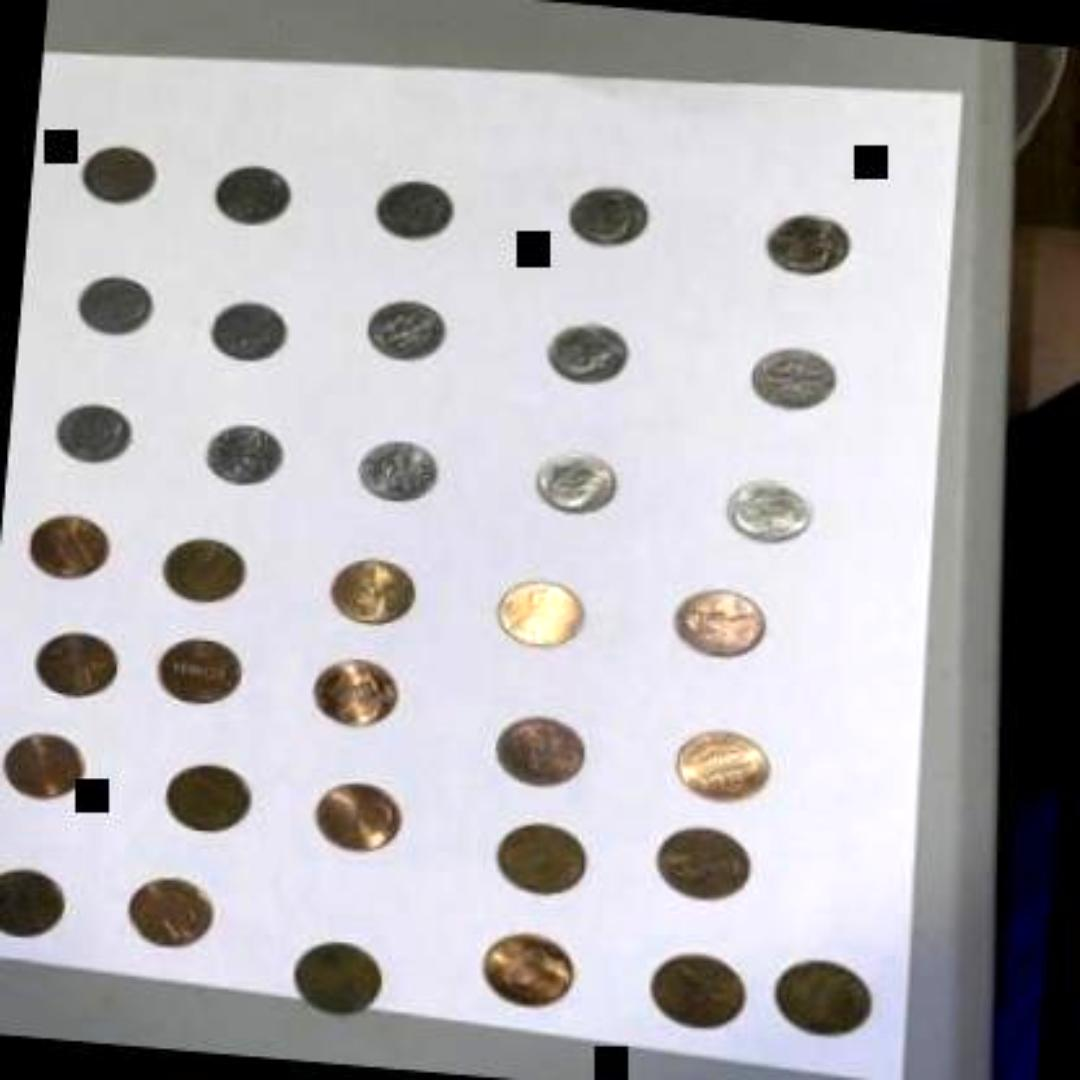Dime: (738, 336, 844, 416), (356, 173, 466, 243), (760, 203, 852, 283), (717, 472, 815, 546), (540, 315, 634, 390), (199, 290, 295, 362), (203, 157, 301, 227), (560, 175, 650, 250), (348, 432, 444, 502), (193, 414, 286, 486), (526, 443, 618, 515), (358, 289, 446, 364), (45, 391, 135, 463), (70, 264, 156, 338), (77, 136, 149, 204)
Penny: (642, 945, 750, 1035), (466, 924, 576, 1010), (114, 864, 223, 950), (770, 950, 878, 1036), (661, 576, 767, 662), (647, 816, 753, 902), (491, 812, 597, 898), (285, 932, 391, 1017), (304, 770, 404, 856), (152, 522, 252, 604), (316, 545, 418, 625), (486, 704, 586, 784), (305, 650, 406, 728), (672, 724, 774, 798), (154, 754, 248, 834), (488, 570, 584, 646), (147, 628, 243, 704), (1, 725, 94, 800), (28, 624, 120, 698), (21, 503, 111, 578), (0, 854, 72, 940)
